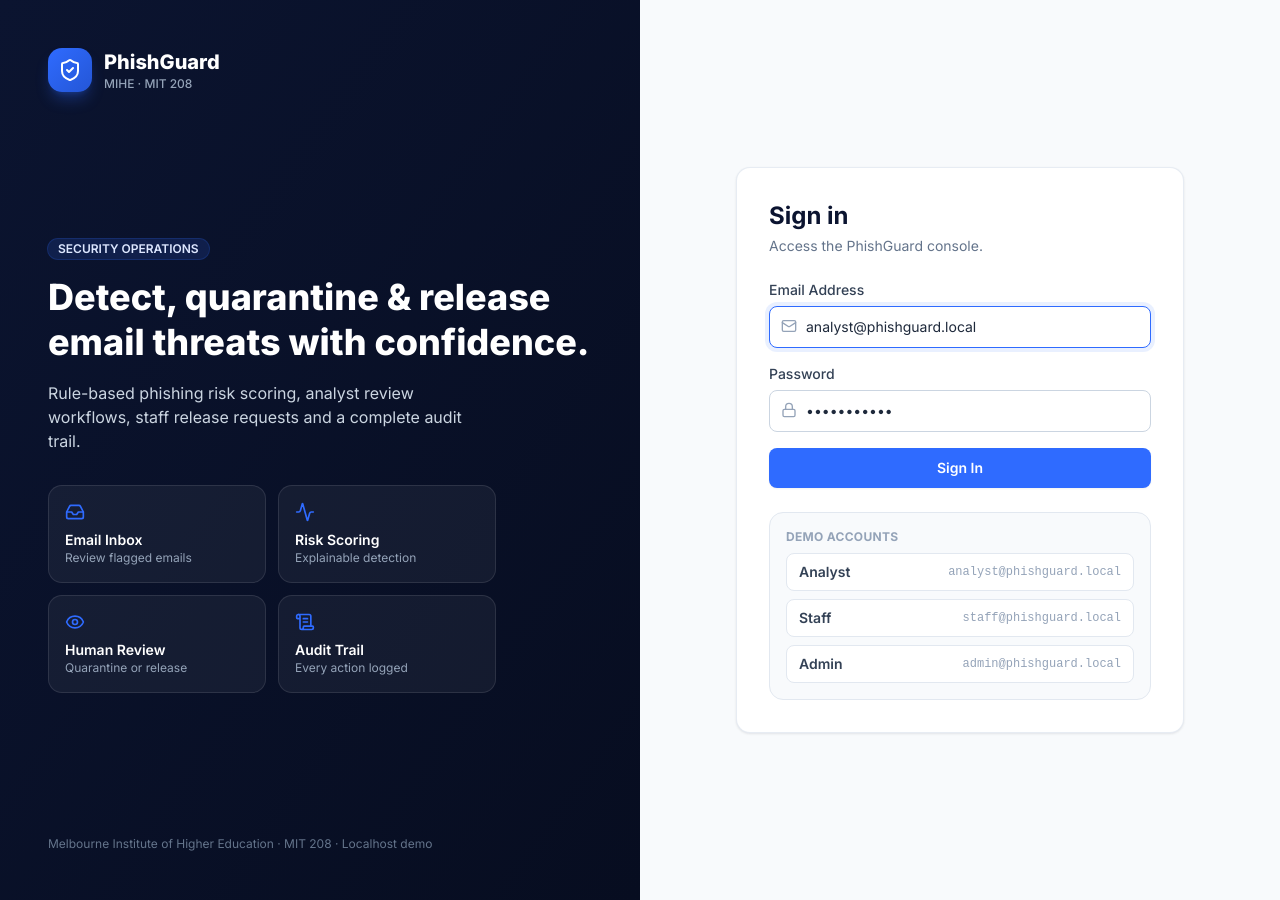
Scenario: Login › explains an unreachable backend instead of failing silently
What coordinates should you click on to do the following:
click the button "Sign In"
I would click on:
 (960, 468)
Its box is [769, 448, 1151, 488].
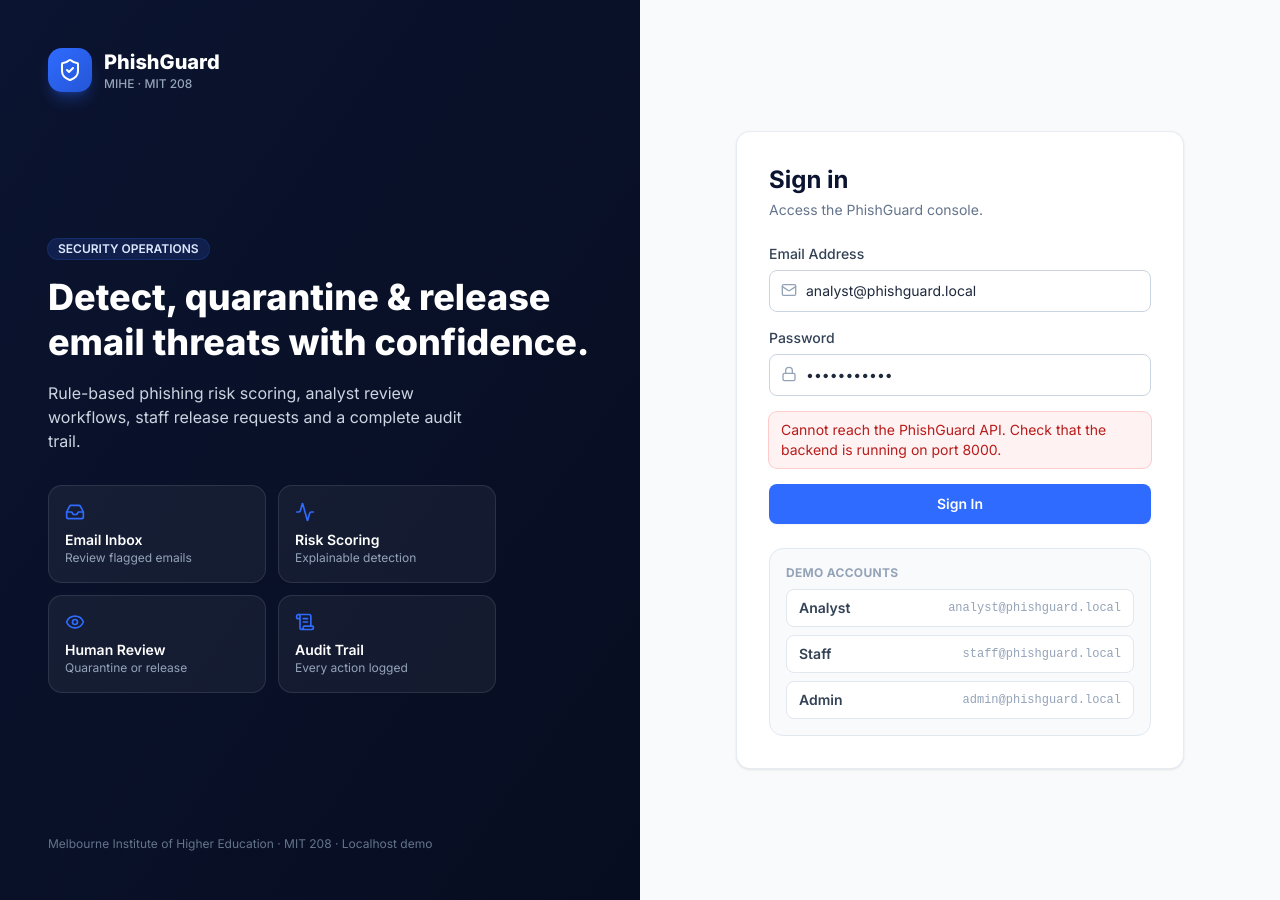
Expected: the text "Cannot reach the PhishGuard API" is shown, [781, 421, 1106, 458]
